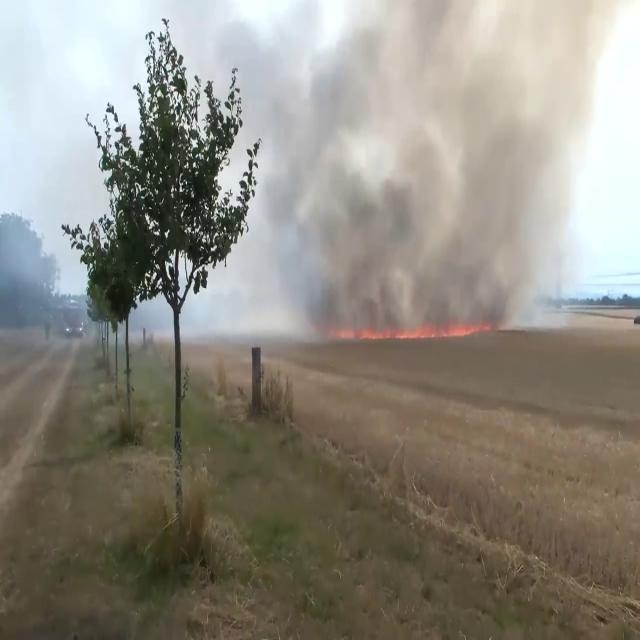Fire: (330, 314, 500, 346)
Smoke: (271, 0, 623, 324)
